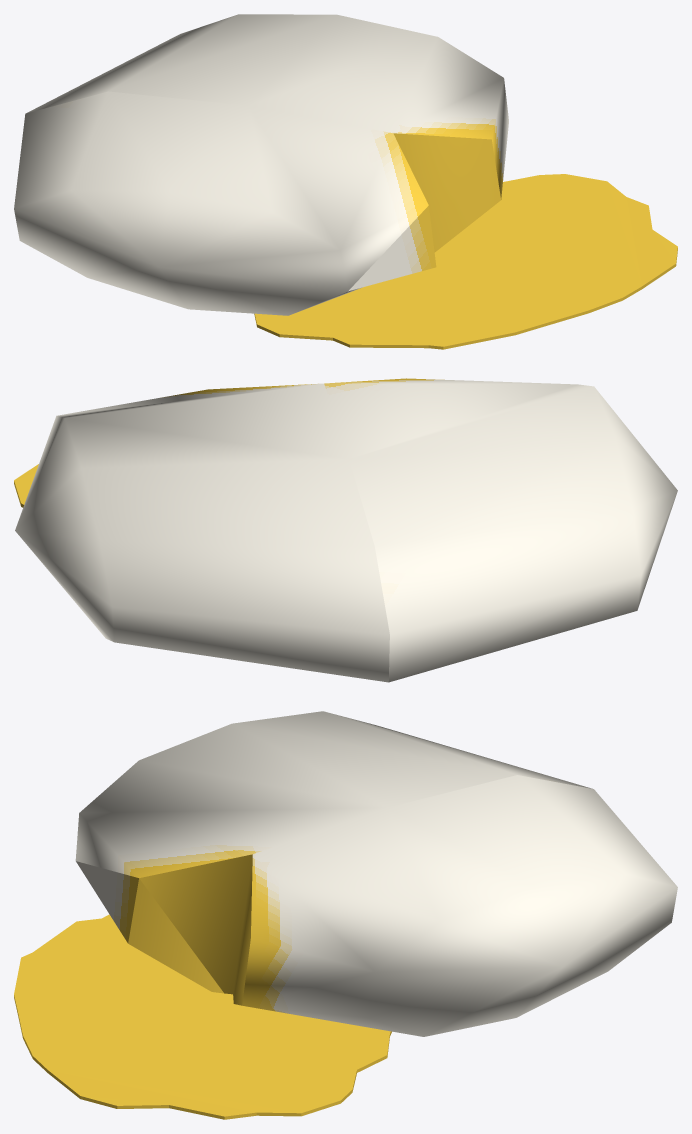
File: EggPoached.fbx
3 renders of one model, top to bottom at view 1: azimuth 30°, elevation 25°; view 2: azimuth 150°, elevation 25°; view 3: azimuth 270°, elevation 25°, orthographic. The views are drawn at different scales.
Visible parts, largest first — view 1: EggBoilded; view 2: EggBoilded; view 3: EggBoilded.
Boxes of the visible parts, x1=… form: EggBoilded: x1=14, y1=14, x2=677, y2=349; EggBoilded: x1=14, y1=378, x2=677, y2=682; EggBoilded: x1=14, y1=711, x2=677, y2=1119.
Size of the model in its own units: 0.2076 by 0.0494 by 0.1938.
